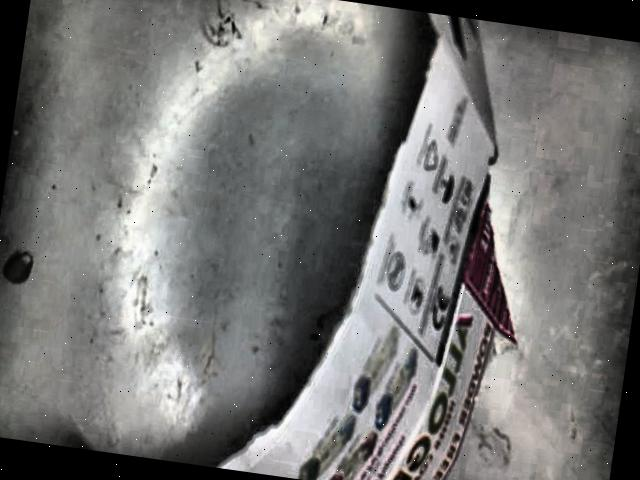Paper: (216, 13, 524, 480)
